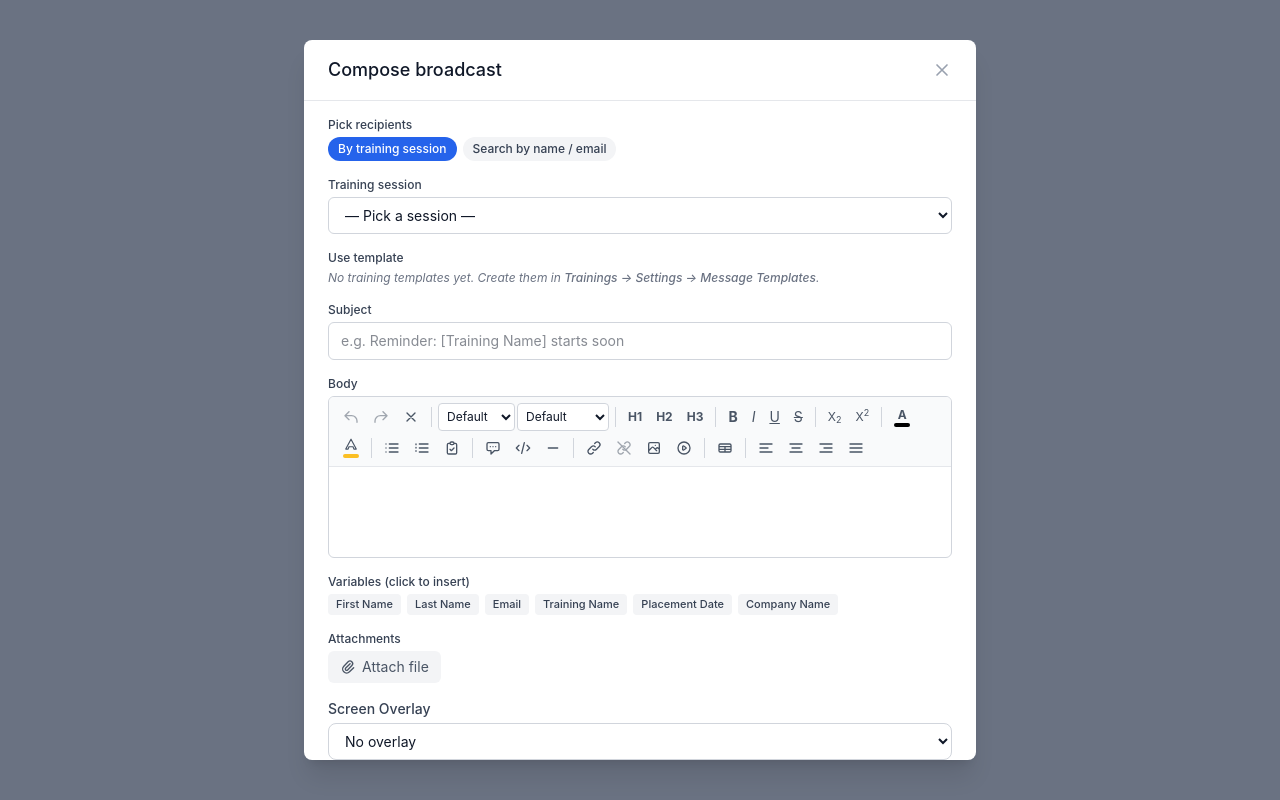
Test: TrainingComposePlacementDialog › inserts a variable into the subject when the subject was last focused
The image size is (1280, 800).
Click the field labelled "Subject" at (640, 341), box [328,322,952,360]
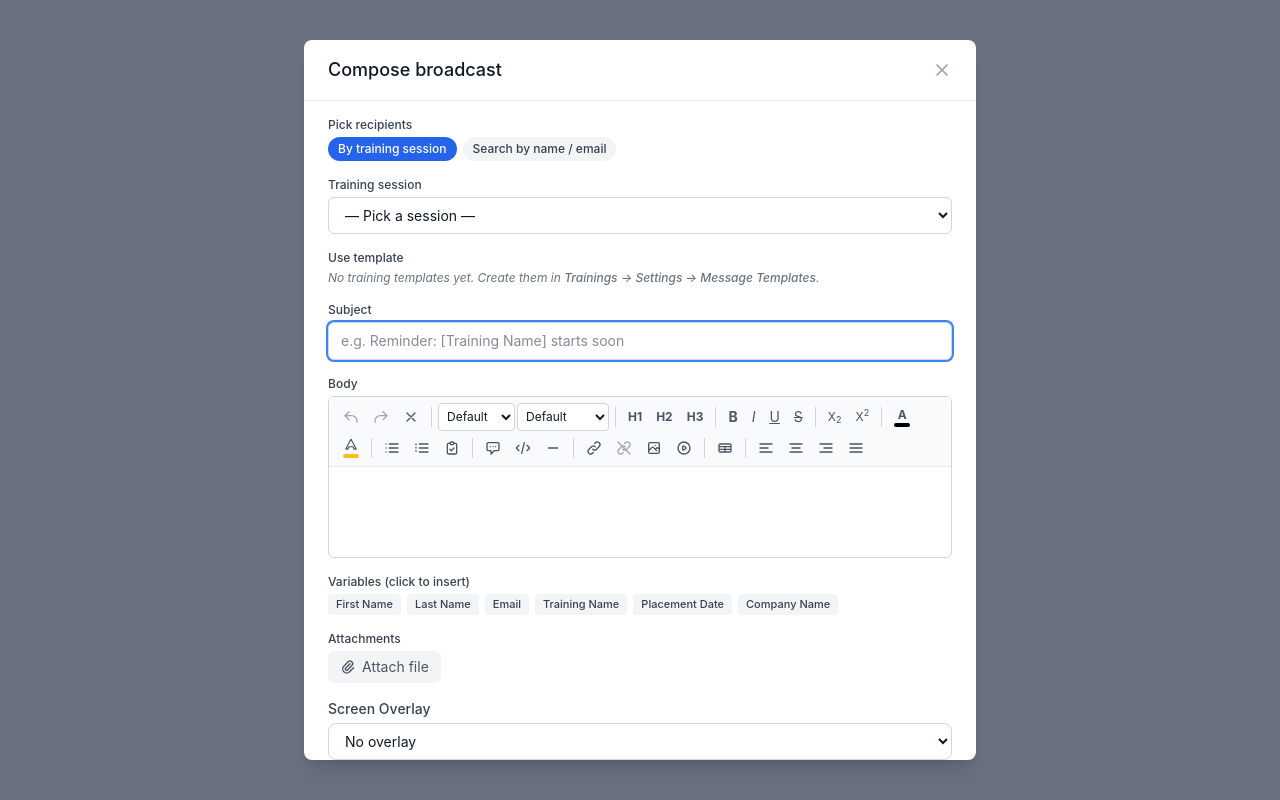
Type keys "Hello"
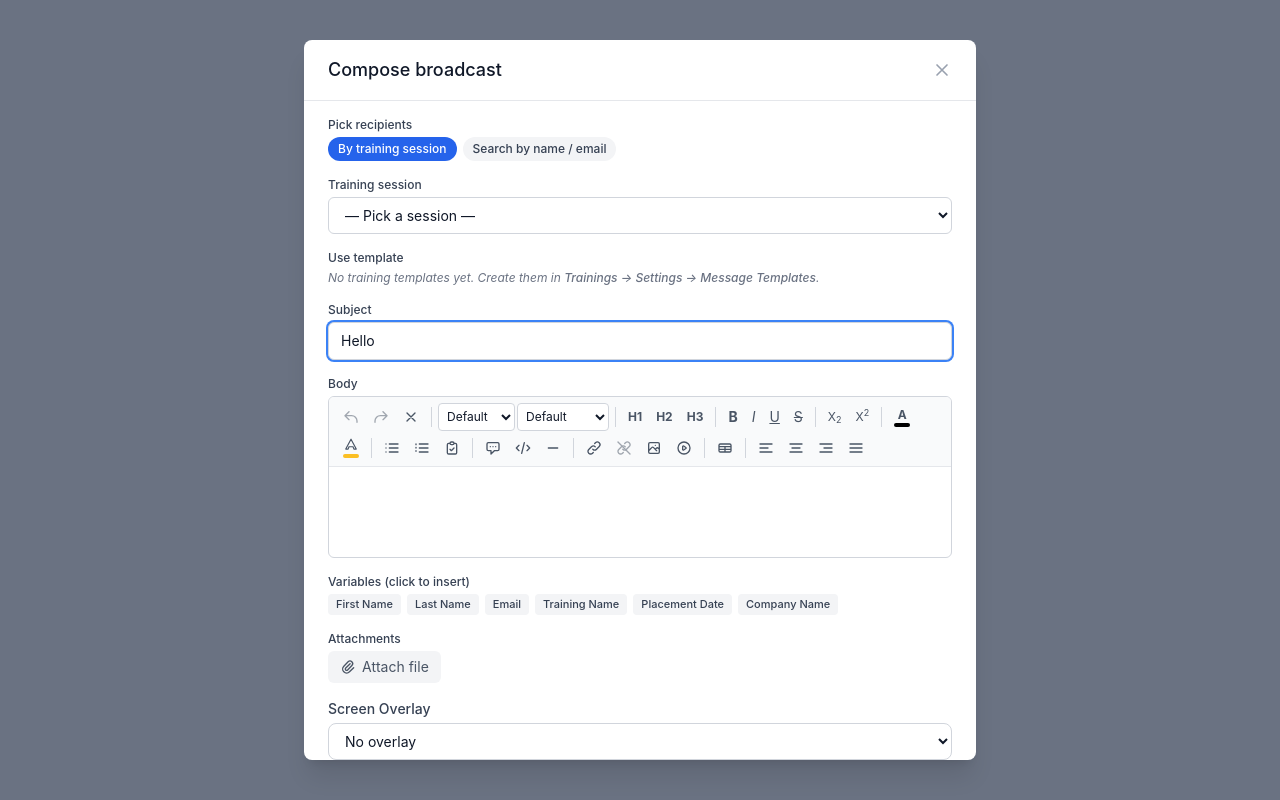
Note: Click the First Name variable button.
Click the button "First Name" at (364, 604), box [328,594,401,614]
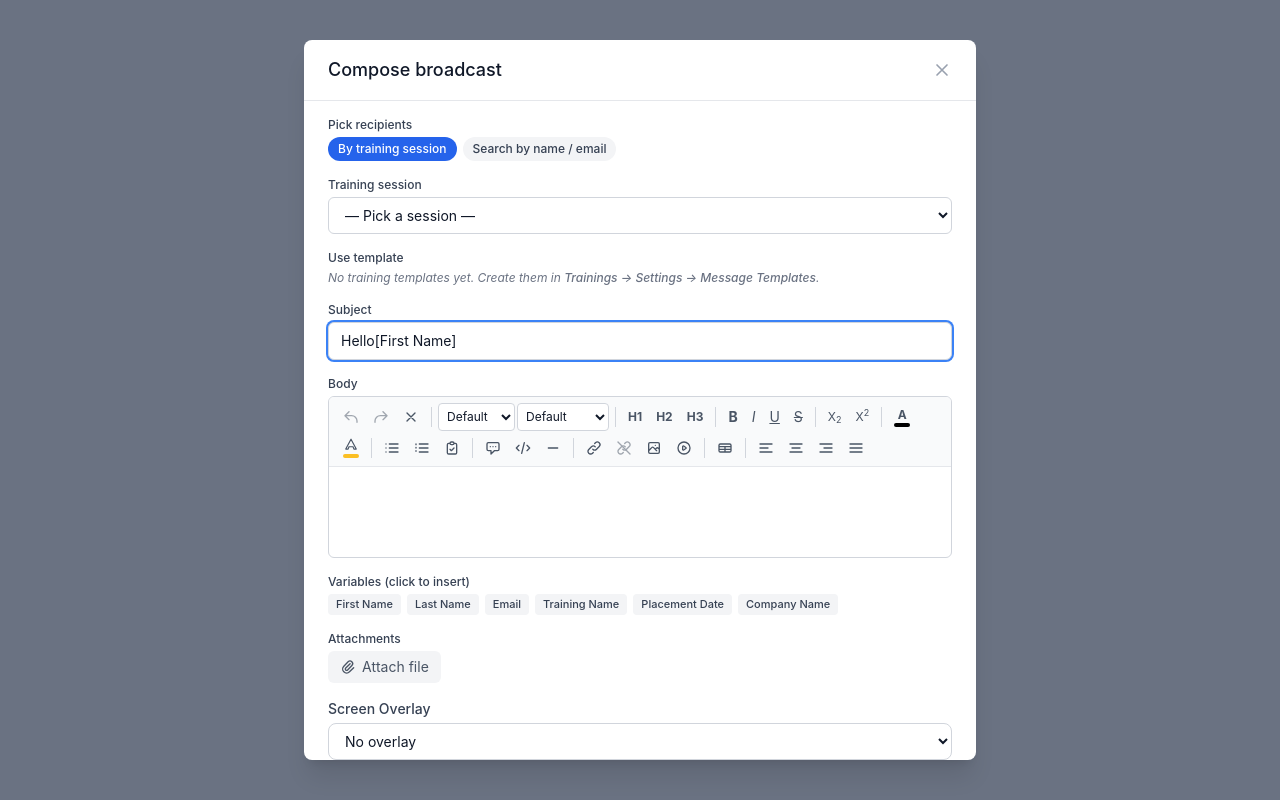
expect the field labelled "Subject" holds "Hello[First Name]": met, box [328,322,952,360]
